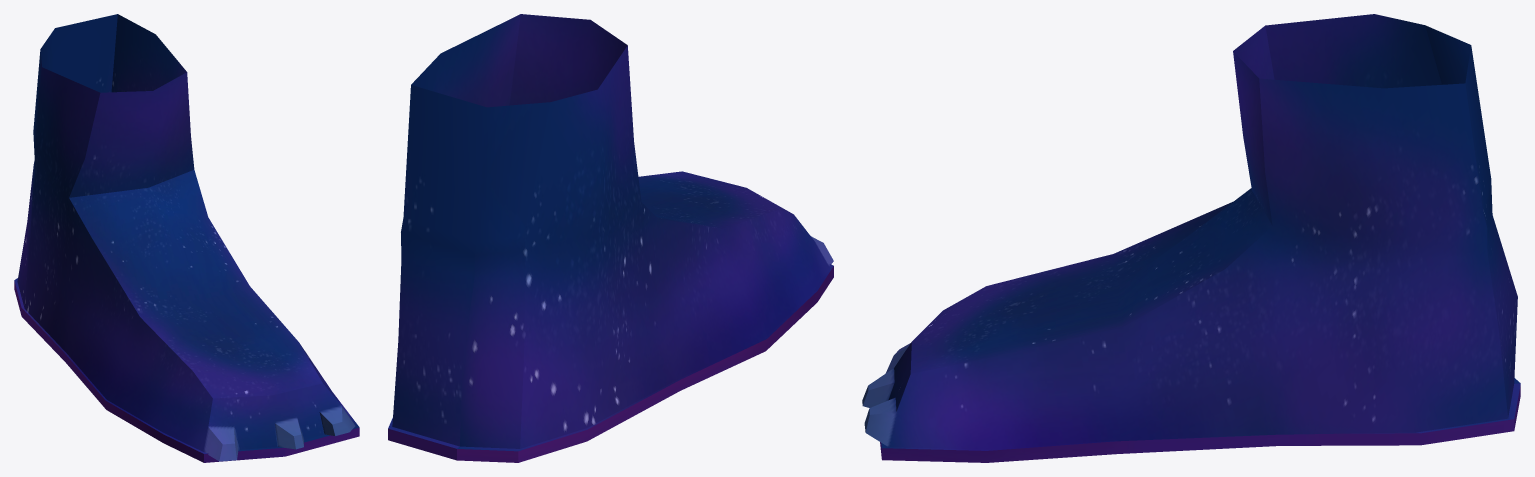
The model's file is dinoShoe_R.fbx.
The picture shows the model from 3 angles, left to right: view 1: azimuth 30°, elevation 25°; view 2: azimuth 150°, elevation 25°; view 3: azimuth 270°, elevation 25°; orthographic projection. The views are drawn at different scales.
Visible parts, largest first — view 1: polySurface20; view 2: polySurface20; view 3: polySurface20.
Boxes of the visible parts, x1=… form: polySurface20: x1=14, y1=14, x2=359, y2=462; polySurface20: x1=388, y1=14, x2=833, y2=462; polySurface20: x1=862, y1=14, x2=1520, y2=462.
Bounding box in the file's own units: 11.98 × 17.21 × 28.43.
1 material, 1 textured.
